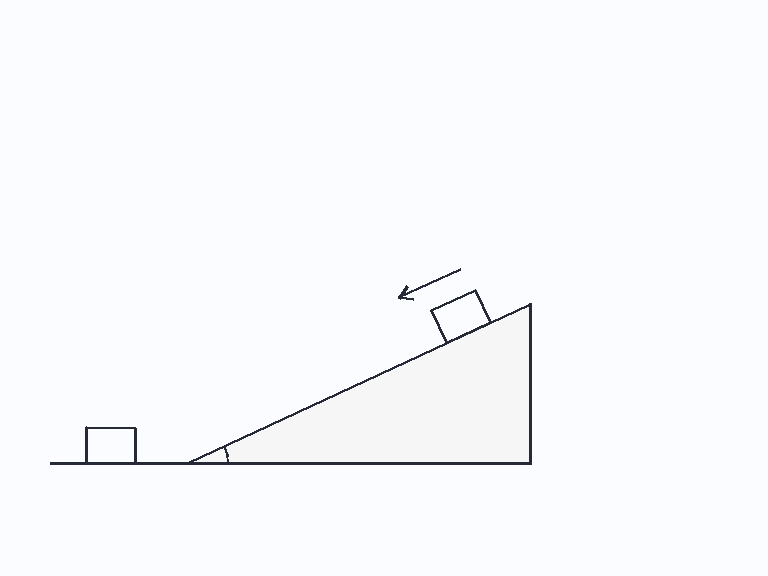block: (429, 288, 492, 345), (85, 425, 137, 465)
ramp: (186, 302, 532, 465)
